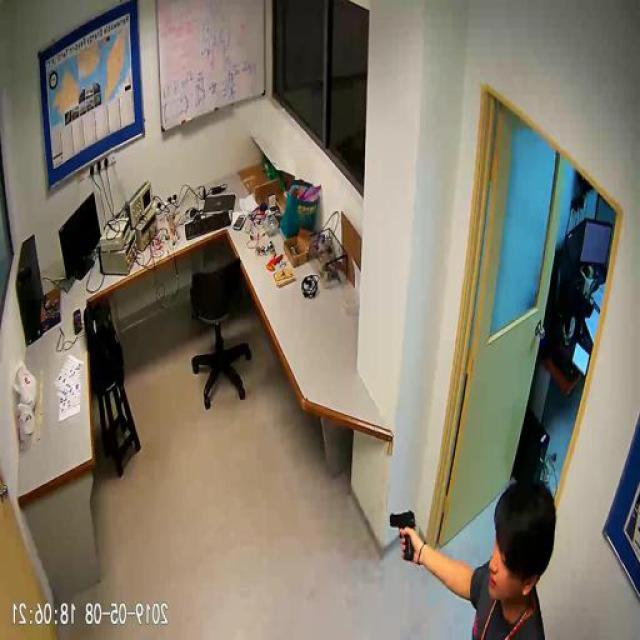weapon: (388, 506, 420, 563)
